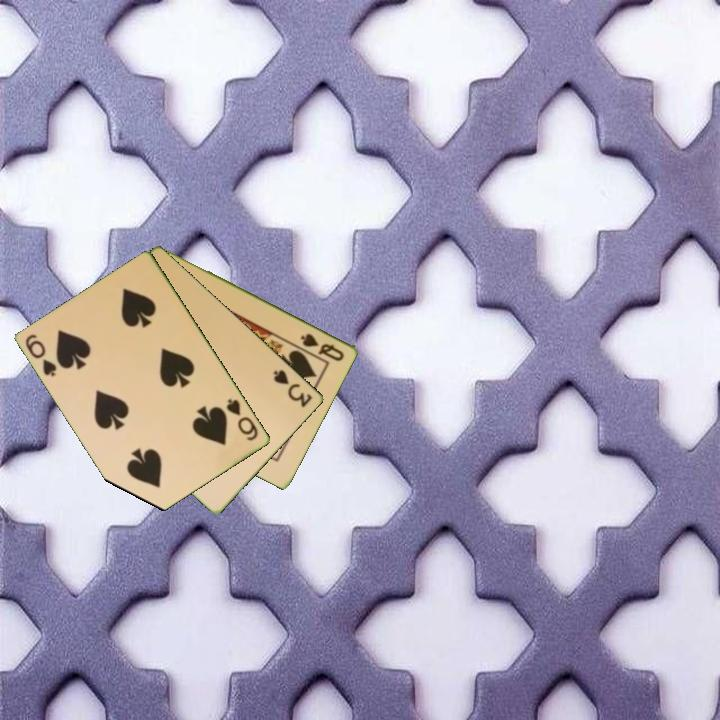3s: (270, 366, 315, 411)
6s: (223, 395, 262, 444), (22, 330, 60, 380)
Qs: (297, 330, 347, 364)
